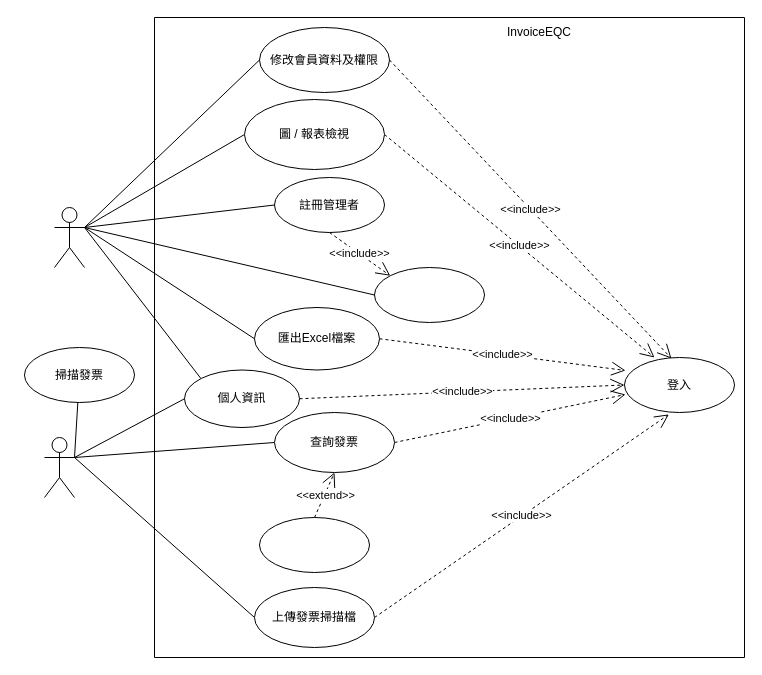
This 762x675 diagram has some shape labels left out. Each missing label, with the centre of its shape:
修改發票內容: point 314,544
公司發票檢核者: point 59,467
公司管理者: point 69,237
註冊檢核者: point 429,294
